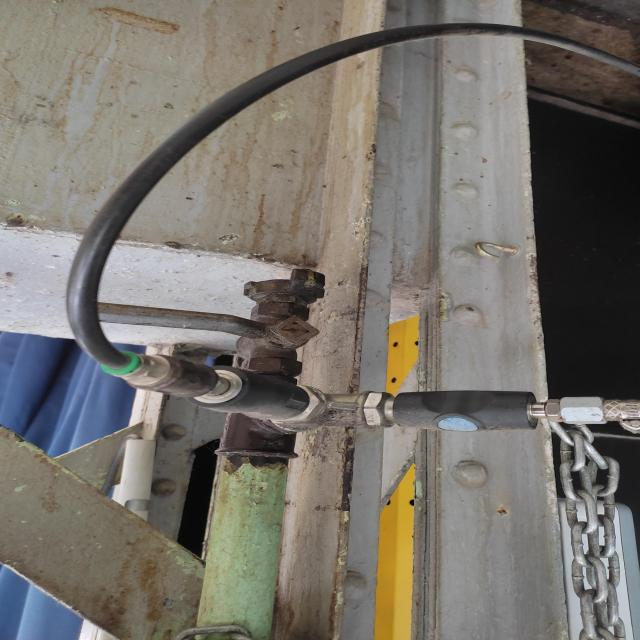closed_valve: (81, 299, 323, 375)
